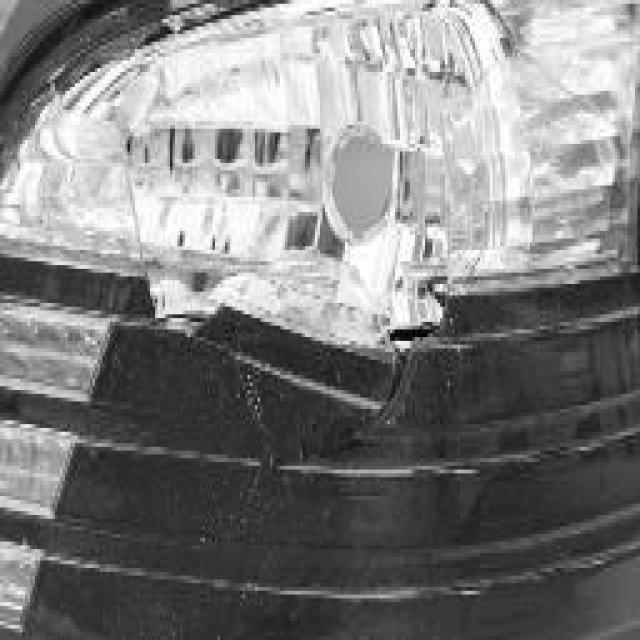Light: (22, 45, 640, 424)
